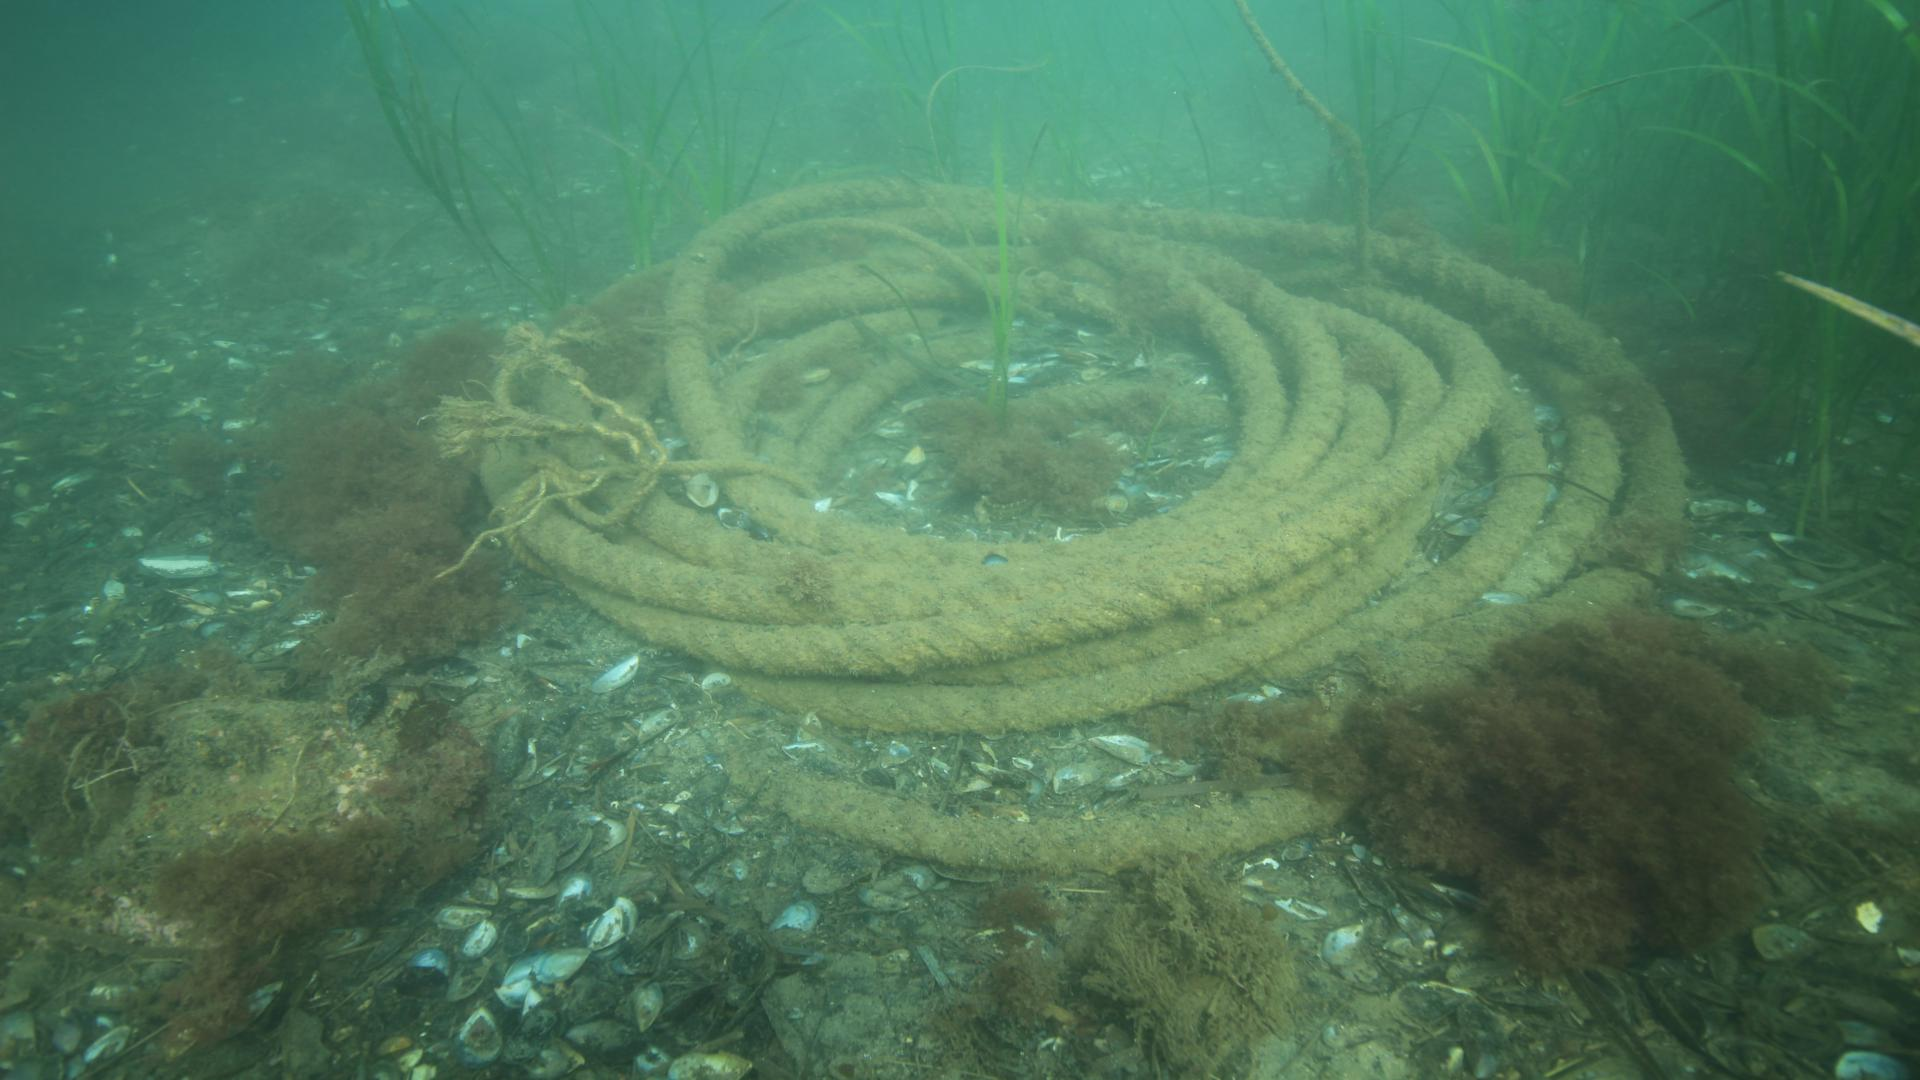bundle of ropes: (475, 175, 1687, 872)
